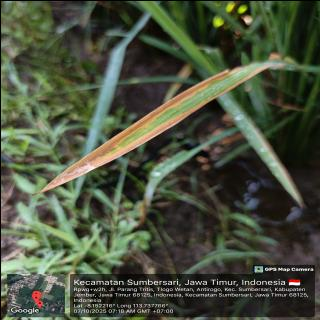Hawar-Daun: (35, 69, 247, 192)
